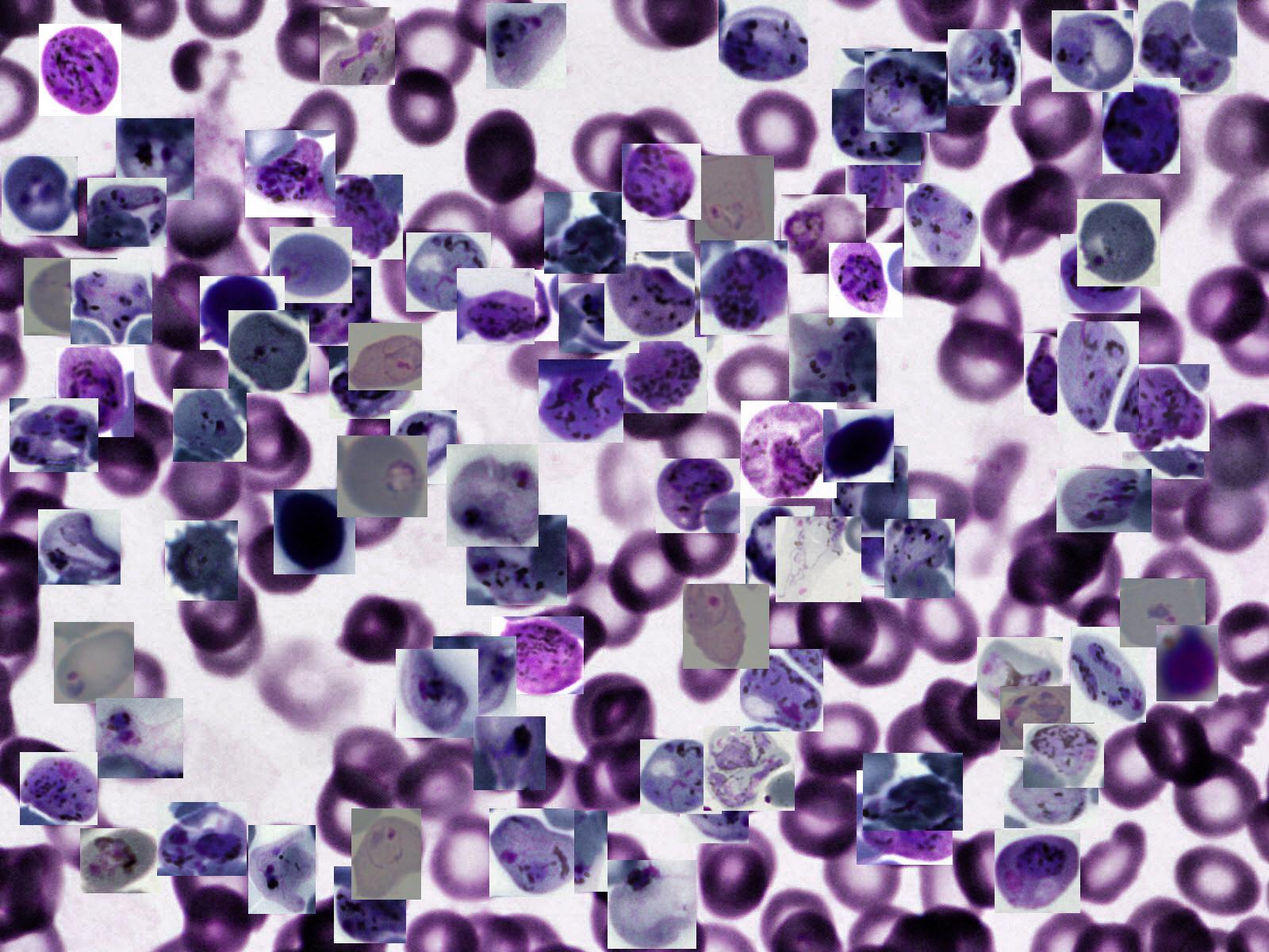Infected: (447, 444, 539, 547), (741, 401, 837, 498), (1138, 0, 1237, 94), (857, 770, 953, 865), (1057, 321, 1139, 432), (466, 515, 567, 605), (700, 240, 788, 335), (605, 251, 696, 341), (842, 499, 936, 585), (608, 860, 696, 949), (245, 130, 335, 217), (863, 753, 963, 831), (789, 313, 876, 402), (1121, 364, 1210, 451), (704, 726, 795, 811), (1024, 333, 1117, 416), (845, 119, 930, 208), (489, 808, 574, 897), (1102, 78, 1180, 174), (719, 0, 808, 84), (40, 25, 121, 116), (684, 584, 770, 669), (776, 516, 861, 602), (396, 649, 478, 738), (337, 436, 427, 517), (24, 258, 117, 336), (1077, 199, 1160, 286), (1071, 627, 1146, 723), (492, 616, 584, 694), (977, 637, 1063, 720), (539, 359, 623, 443), (995, 830, 1080, 913), (695, 155, 774, 244), (282, 267, 371, 346), (56, 347, 134, 437), (433, 636, 516, 720), (96, 698, 183, 778), (832, 446, 908, 537), (274, 489, 355, 574), (71, 259, 152, 344), (638, 278, 723, 359), (486, 3, 566, 89), (740, 649, 823, 731), (406, 232, 491, 312), (781, 194, 866, 274), (832, 89, 921, 165), (544, 192, 626, 274), (228, 310, 309, 393), (1004, 757, 1098, 828), (158, 802, 247, 876), (1052, 11, 1133, 92), (1122, 399, 1204, 479), (54, 622, 134, 704), (10, 398, 98, 472), (865, 52, 946, 132), (622, 337, 707, 413), (351, 808, 421, 900), (1060, 234, 1141, 313), (116, 118, 194, 200), (904, 183, 980, 267), (530, 811, 608, 892), (38, 509, 121, 585), (328, 175, 403, 259), (200, 276, 285, 350), (270, 227, 352, 303), (656, 459, 740, 533), (640, 739, 722, 814), (1000, 686, 1095, 750), (2, 156, 78, 236), (248, 825, 316, 914), (1056, 470, 1152, 533), (622, 144, 701, 220), (330, 347, 413, 419), (1120, 578, 1206, 647), (320, 7, 396, 85), (834, 49, 912, 125), (457, 268, 535, 344), (165, 520, 238, 601), (746, 506, 815, 589), (20, 752, 98, 825), (478, 270, 558, 341), (948, 29, 1021, 106), (884, 519, 955, 598), (559, 283, 639, 353), (334, 866, 406, 943), (87, 178, 167, 247), (829, 243, 903, 317), (173, 389, 247, 462), (473, 716, 546, 790), (80, 828, 162, 893), (1023, 724, 1104, 788), (823, 409, 894, 482), (680, 770, 749, 843), (390, 410, 457, 484), (348, 323, 422, 390), (1156, 625, 1218, 701)
Uninfected: (568, 104, 677, 195), (172, 836, 272, 932), (426, 808, 523, 904), (255, 634, 353, 729), (489, 171, 582, 267), (691, 819, 776, 921), (276, 85, 363, 184), (1055, 813, 1149, 904), (312, 765, 398, 863), (1169, 750, 1263, 838), (934, 317, 1026, 406), (461, 106, 540, 209), (605, 531, 691, 624), (803, 161, 898, 245), (401, 190, 493, 276), (567, 678, 660, 763), (734, 85, 819, 177), (830, 597, 918, 685), (885, 702, 979, 784), (511, 223, 598, 310), (75, 388, 172, 466), (562, 560, 649, 646), (1012, 512, 1104, 593), (714, 340, 807, 420), (1046, 530, 1125, 624), (391, 3, 476, 90), (779, 776, 863, 864), (1186, 257, 1268, 347), (616, 109, 707, 190), (1135, 550, 1220, 636), (329, 727, 416, 811), (1092, 717, 1170, 810), (1012, 79, 1095, 166), (179, 486, 274, 562), (382, 59, 460, 151), (650, 412, 746, 486), (219, 417, 312, 493), (517, 758, 598, 845), (1084, 171, 1173, 250), (918, 835, 990, 932), (684, 194, 767, 278), (918, 56, 1003, 138), (148, 326, 228, 413), (41, 793, 124, 876), (321, 470, 408, 549), (1171, 845, 1264, 918), (874, 475, 972, 543), (876, 220, 961, 298), (179, 566, 255, 653), (950, 270, 1026, 357), (1135, 703, 1215, 785), (921, 678, 1003, 758), (661, 497, 738, 582), (385, 221, 448, 324), (519, 602, 609, 674), (167, 176, 244, 260), (976, 182, 1055, 263), (798, 588, 877, 669), (796, 704, 879, 781), (85, 646, 169, 722), (149, 265, 217, 357), (243, 522, 326, 597), (904, 587, 981, 667), (619, 372, 705, 443), (276, 7, 354, 85), (571, 736, 651, 812), (747, 593, 825, 670), (243, 176, 316, 257), (193, 594, 263, 678), (512, 324, 598, 392), (696, 745, 769, 825), (1183, 482, 1265, 553), (677, 615, 742, 704), (310, 309, 395, 377), (826, 835, 899, 914), (343, 397, 415, 477), (576, 834, 656, 906), (956, 832, 1031, 907), (794, 749, 870, 823), (395, 756, 478, 823), (1111, 306, 1184, 382), (223, 397, 296, 473), (1006, 540, 1091, 605), (0, 439, 67, 520), (516, 526, 592, 597), (611, 732, 684, 805), (165, 450, 241, 519), (337, 590, 409, 662), (665, 148, 736, 220), (87, 428, 158, 499), (911, 236, 984, 305), (167, 347, 237, 416), (499, 539, 571, 606), (960, 677, 1033, 742), (923, 103, 991, 171), (1079, 597, 1146, 660)
